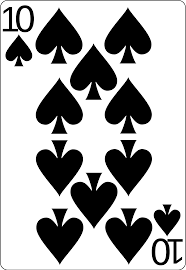ten of spades: (1, 2, 185, 270)
